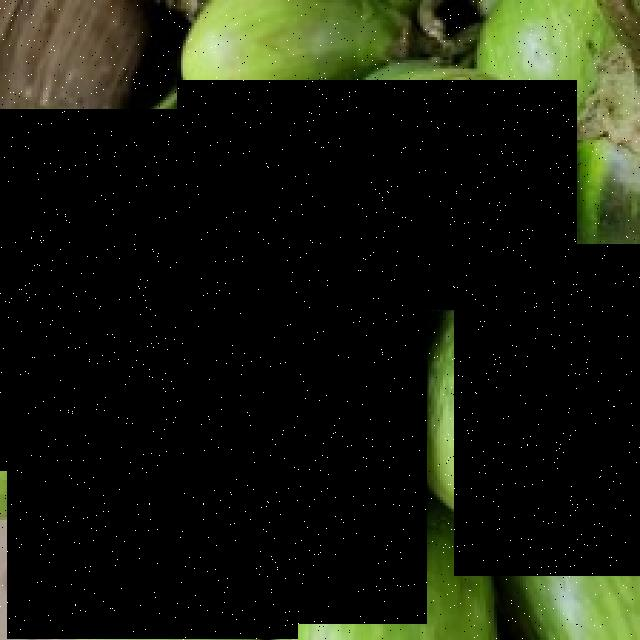Green_Brinjal: (0, 109, 269, 471), (178, 80, 578, 310), (171, 290, 427, 624), (7, 406, 298, 640), (454, 244, 640, 576)
